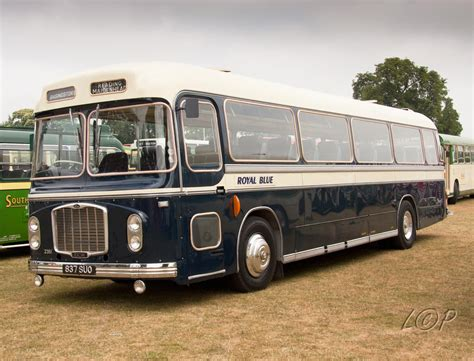bus: (30, 79, 448, 285)
